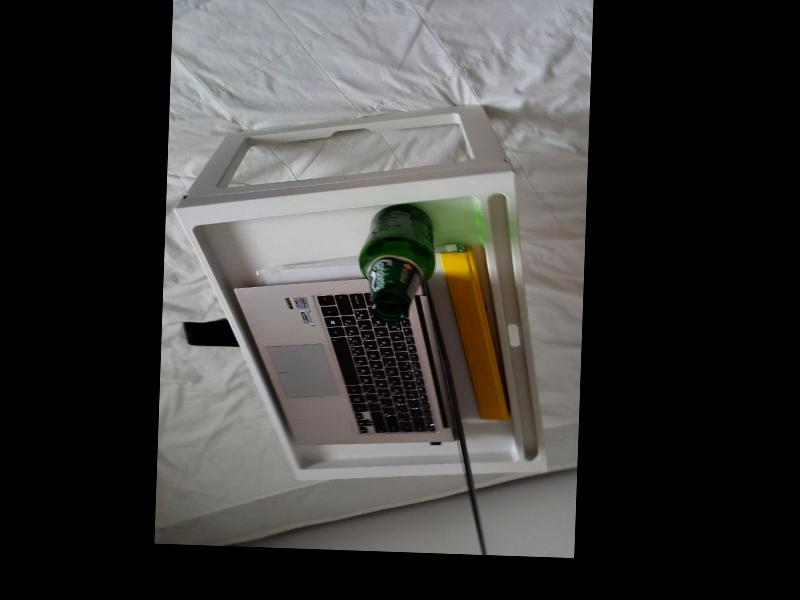Beer: (358, 202, 436, 323)
